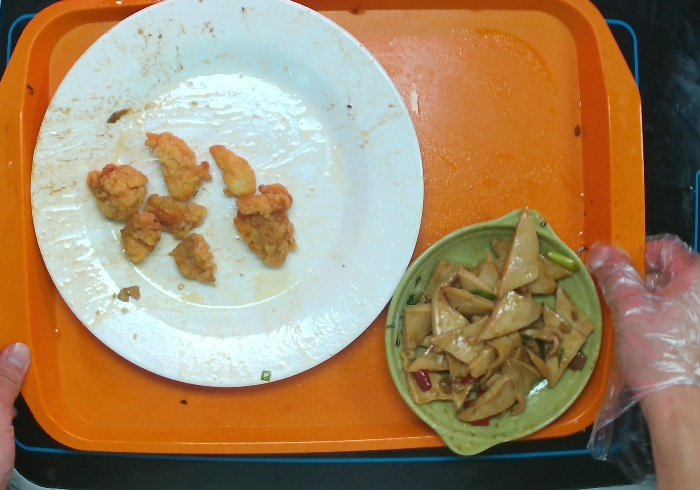NLDX-Da_Yuan_Pan: (30, 1, 426, 387)
NLDX-Lv_Hua_Shuang_Er_Die: (385, 208, 604, 458)
